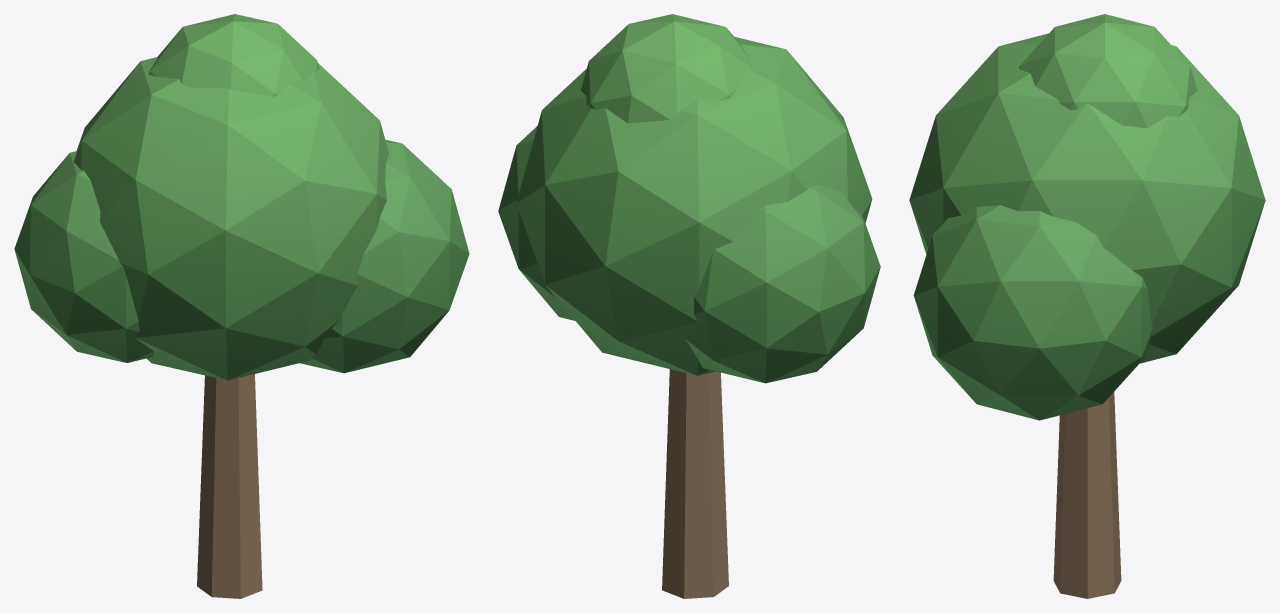
Rendered from tree_lowpoly.glb.
The picture shows the model from 3 angles, left to right: view 1: azimuth 30°, elevation 25°; view 2: azimuth 150°, elevation 25°; view 3: azimuth 270°, elevation 25°; orthographic projection. The views are drawn at different scales.
Visible parts, largest first — view 1: LowPolyTree; view 2: LowPolyTree; view 3: LowPolyTree.
Part boxes in pixels (x1=…): LowPolyTree: x1=14, y1=14, x2=469, y2=598; LowPolyTree: x1=498, y1=14, x2=880, y2=598; LowPolyTree: x1=909, y1=14, x2=1265, y2=598.
Size of the model in its own units: 2.08 by 2.88 by 1.64.
